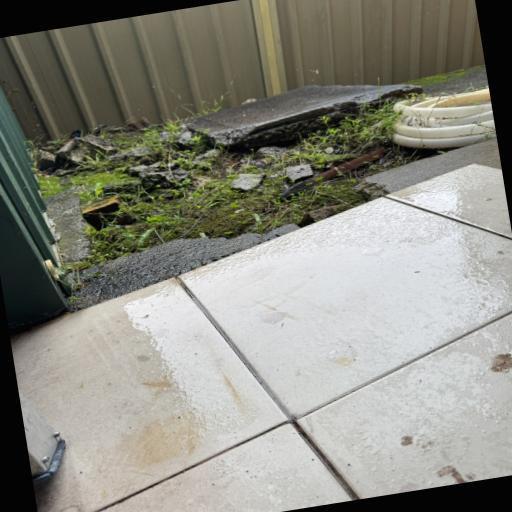gap: (70, 203, 350, 309), (356, 138, 501, 200)
